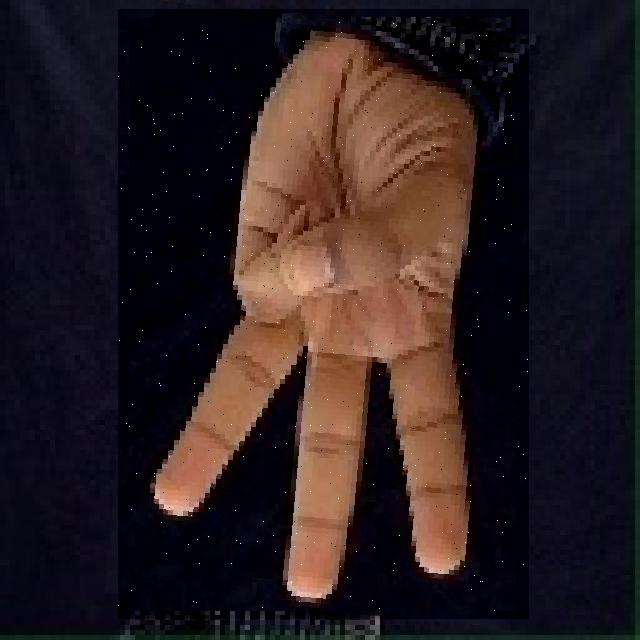Please: (118, 9, 529, 619)
